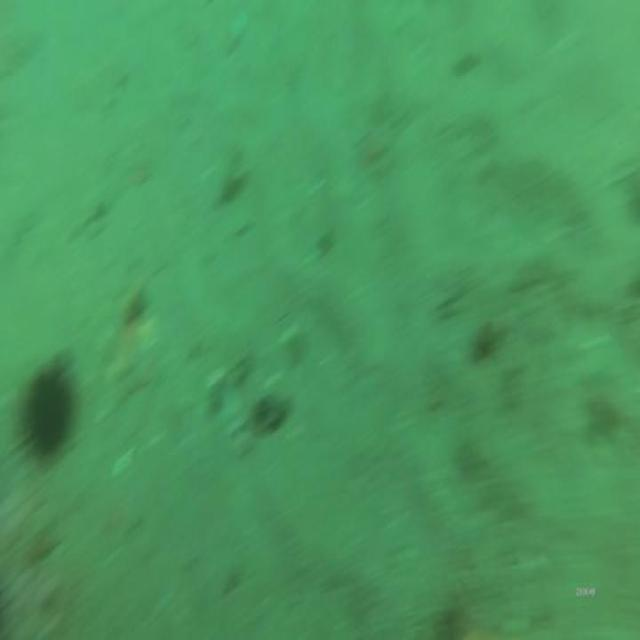echinus: (20, 357, 78, 457)
